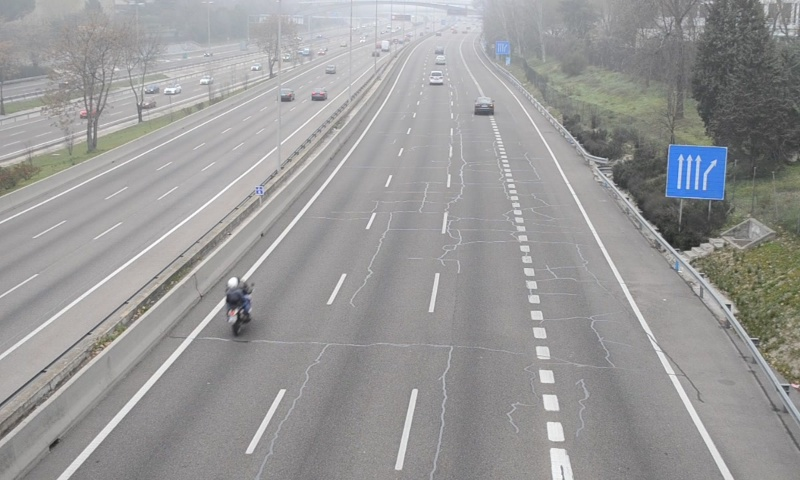car: (473, 96, 494, 115), (428, 71, 444, 86)
motorcycle: (223, 274, 252, 336)
